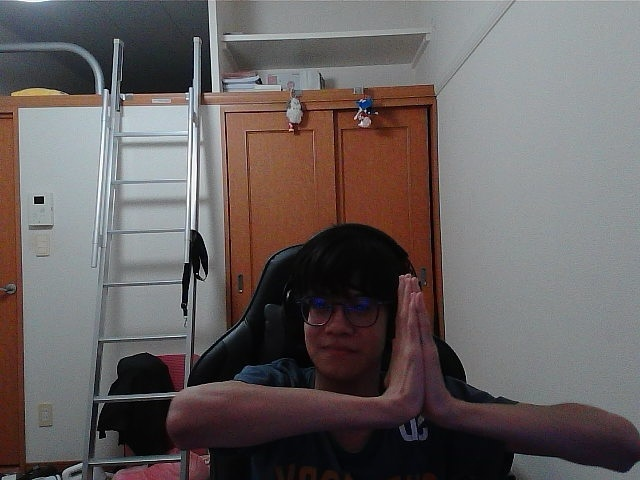pray: (396, 301, 420, 394)
